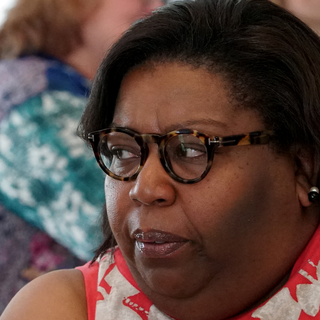eye: (102, 141, 143, 169), (164, 141, 208, 166)
